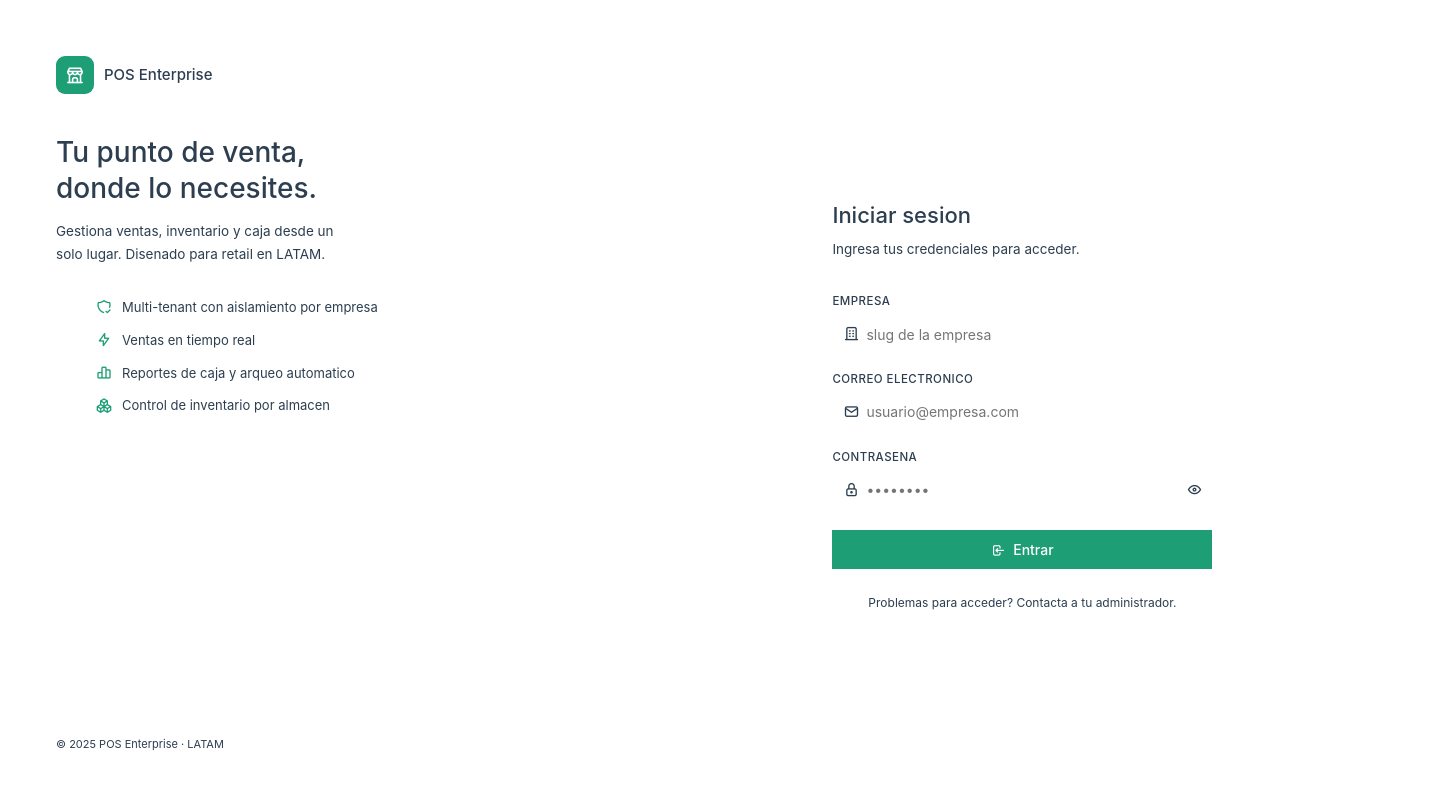
Scenario: LoginView › muestra el mensaje del backend cuando login falla
Type "demo" into the field with id "lv-tenant".
click(1022, 334); type("demo")  # box [832,316,1212,352]
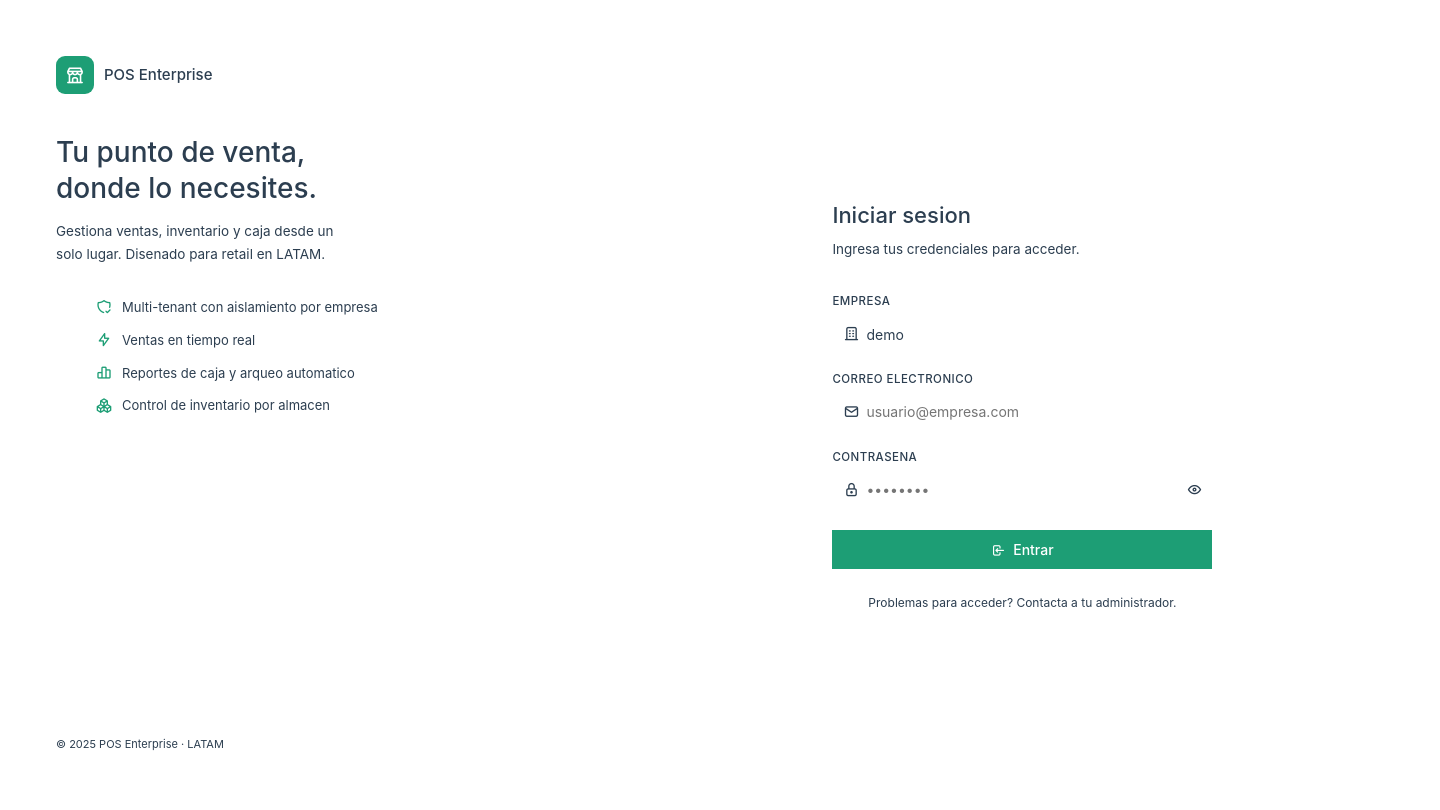
Type "admin@demo.local" into the field with id "lv-email".
click(1022, 412); type("admin@demo.local")  # box [832,394,1212,430]
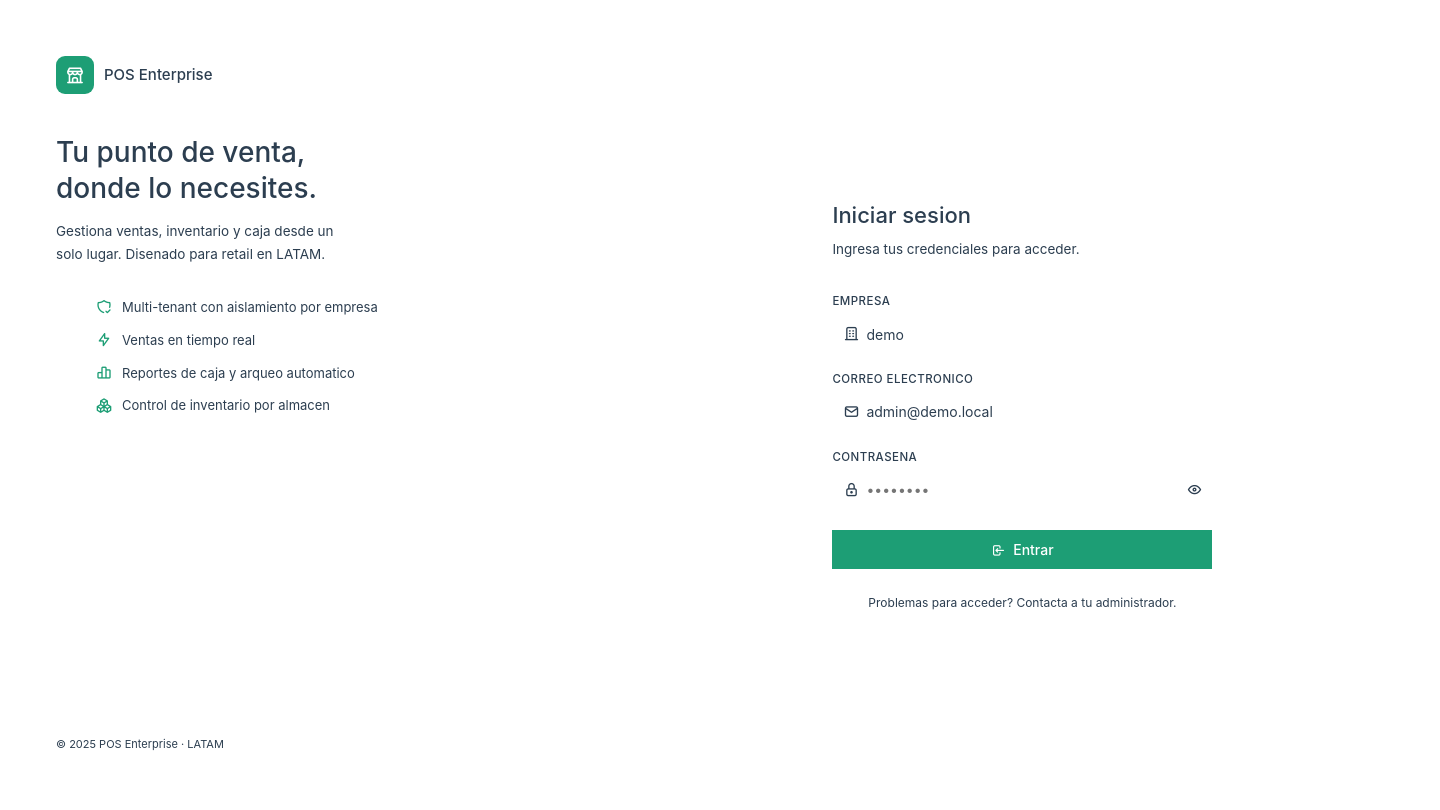
Type "password123" into the password field with id "lv-password".
click(1022, 490); type("password123")  # box [832,472,1212,508]
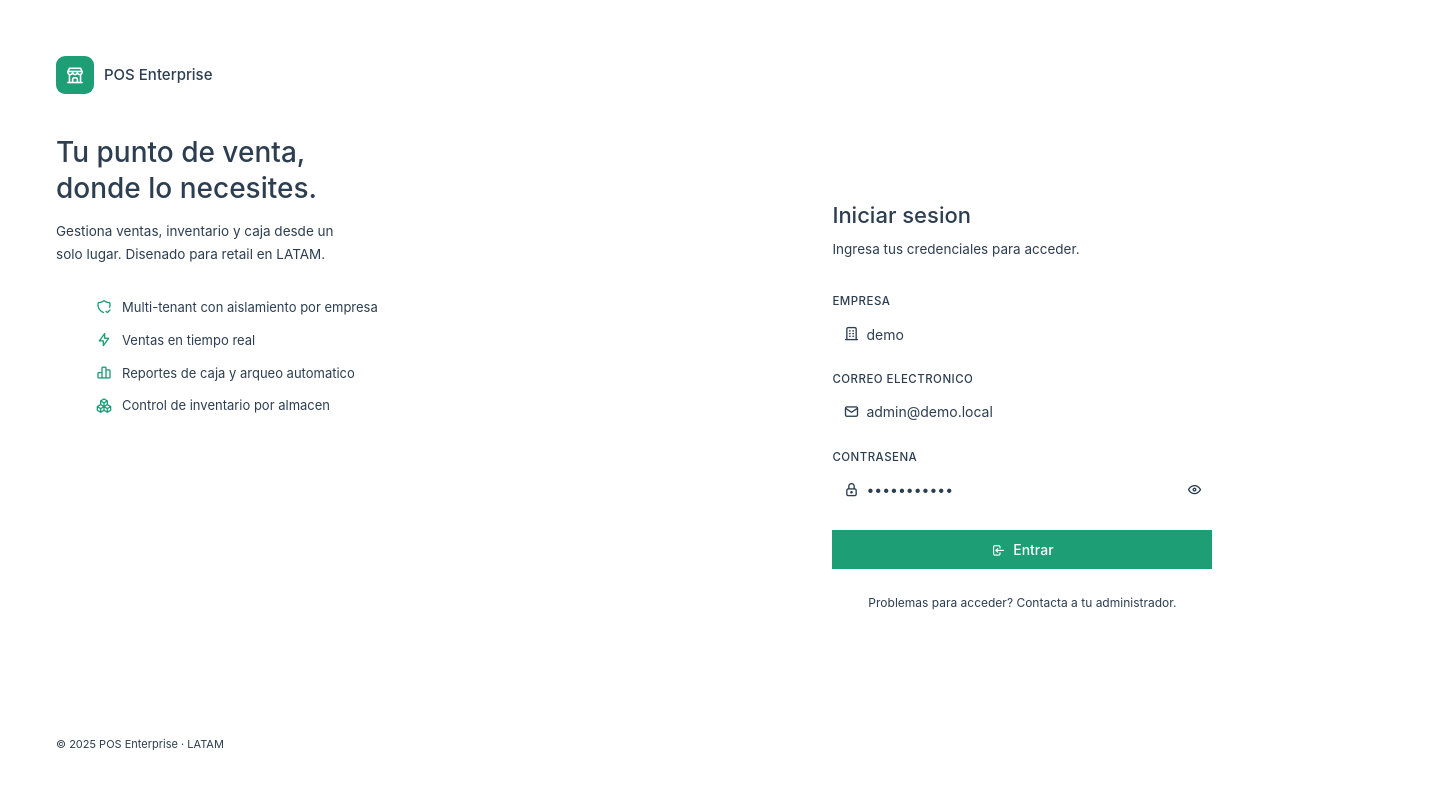
Submit the form with class "lv-form", box [832,292,1212,569]
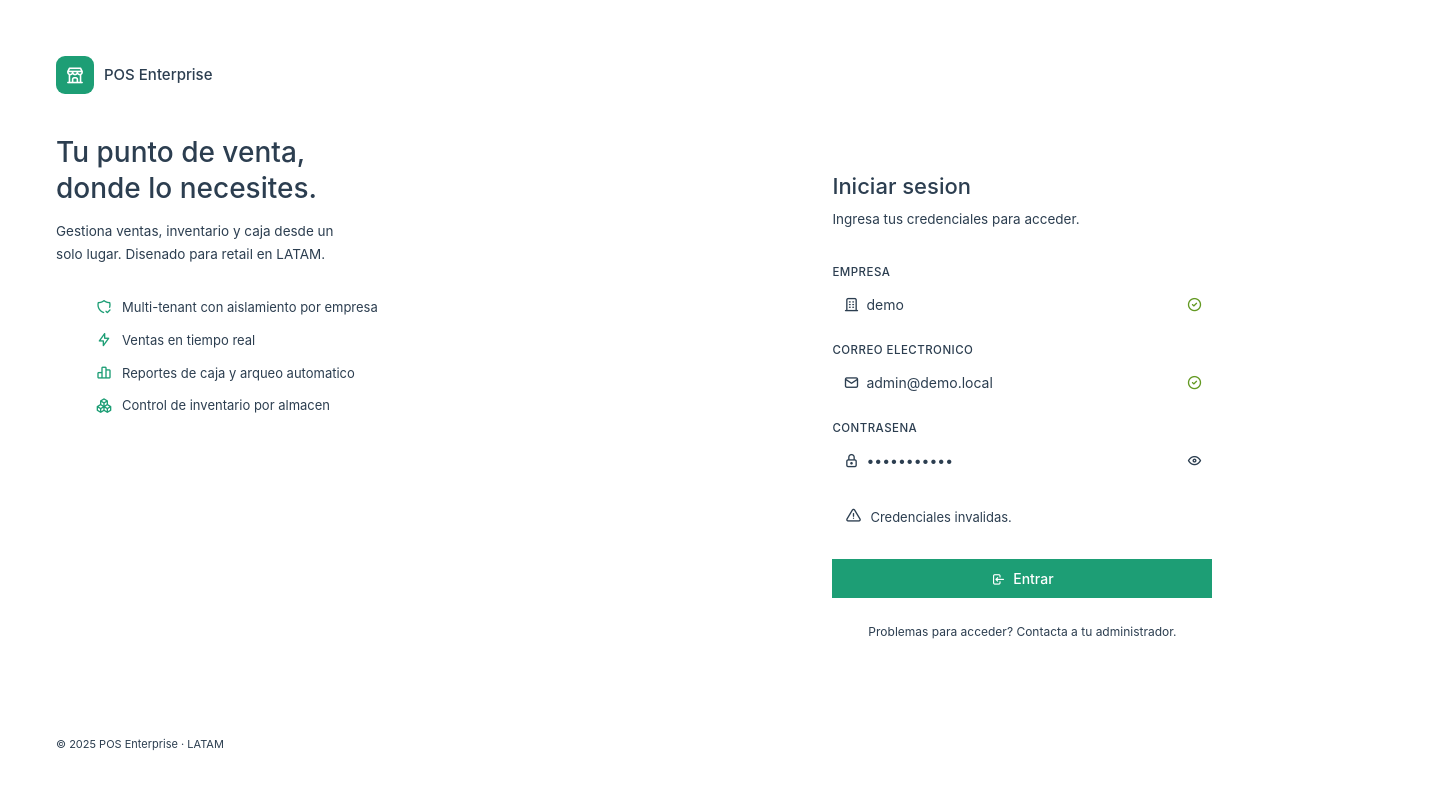
expect the message with class "lv-error-banner" shows "Credenciales invalidas": met, box [870,509,1012,525]
